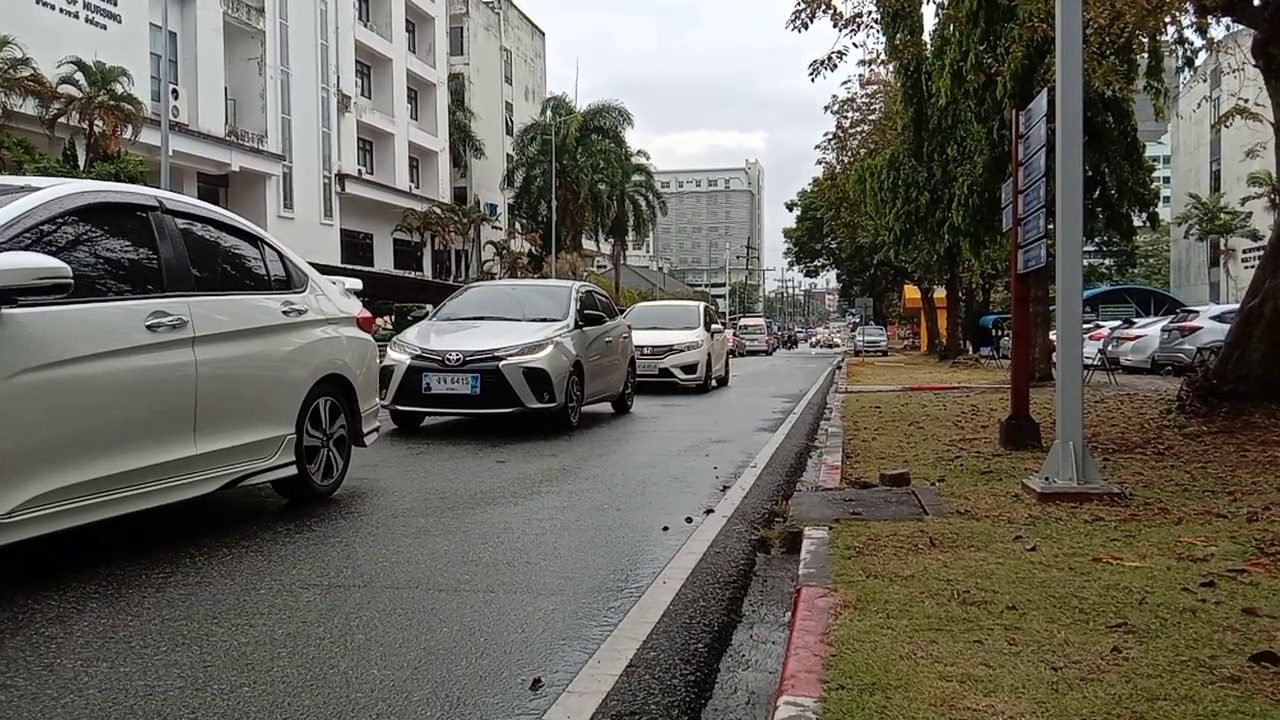License Plate: (420, 370, 476, 393)
